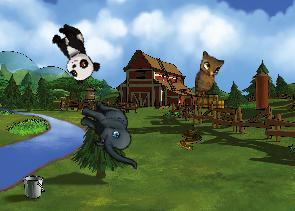elephant: (69, 96, 152, 170)
owl: (194, 51, 225, 99)
panda: (45, 19, 103, 86)
